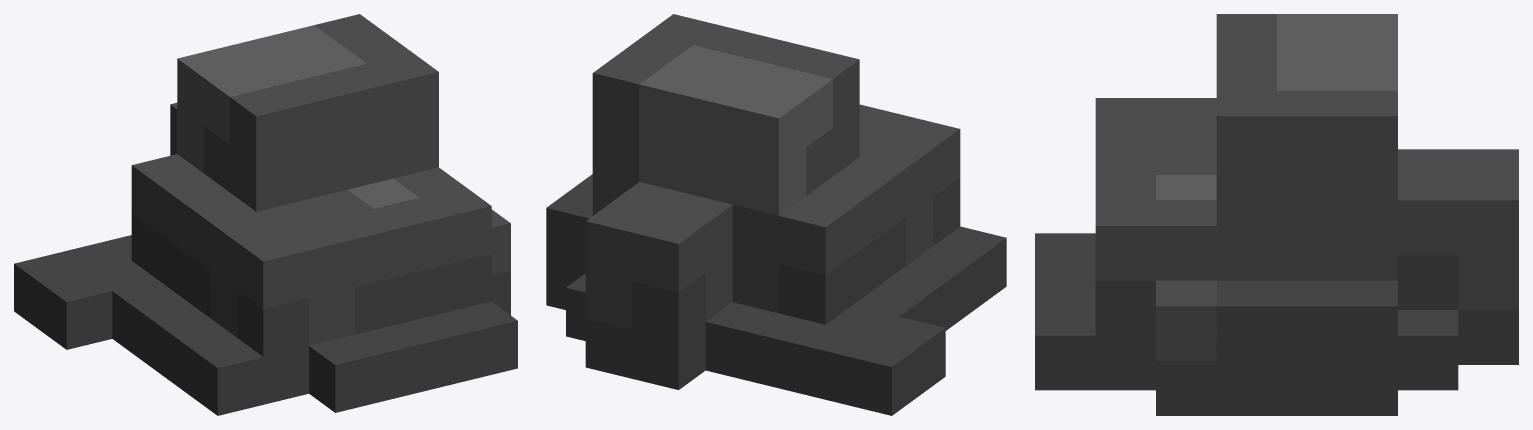
The model's file is rock1.fbx.
The picture shows the model from 3 angles, left to right: view 1: azimuth 30°, elevation 25°; view 2: azimuth 150°, elevation 25°; view 3: azimuth 270°, elevation 25°; orthographic projection. The views are drawn at different scales.
Visible parts, largest first — view 1: rock1; view 2: rock1; view 3: rock1.
Boxes of the visible parts, x1,y1,x2,y2 form: rock1: [14, 14, 517, 415]; rock1: [546, 14, 1006, 415]; rock1: [1035, 14, 1518, 415].
Size of the model in its own units: 8 by 5 by 8.
Materials: 1 (1 with a texture image).
